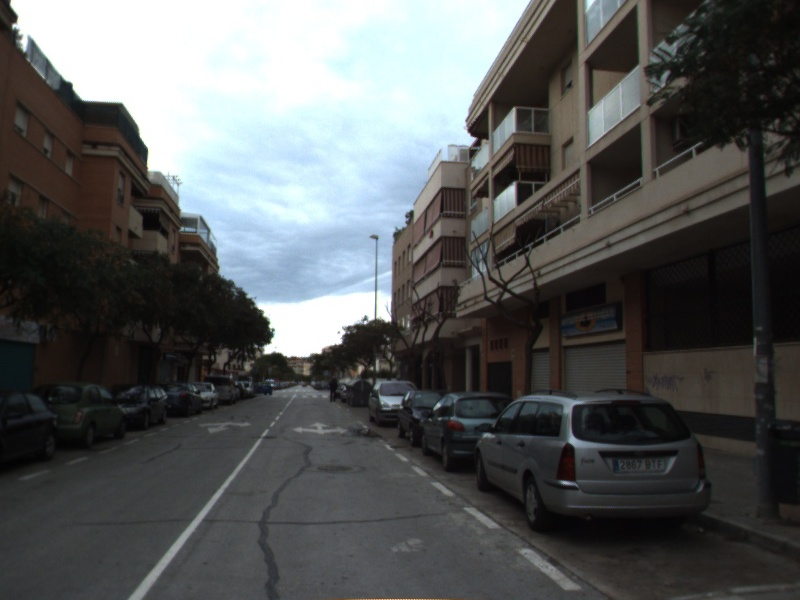STRAIGHT_LEFT_RIGHT: (290, 420, 351, 437)
